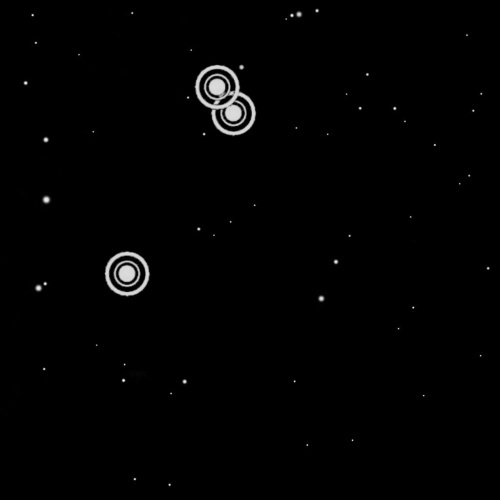canis_minor: (99, 58, 261, 301)
